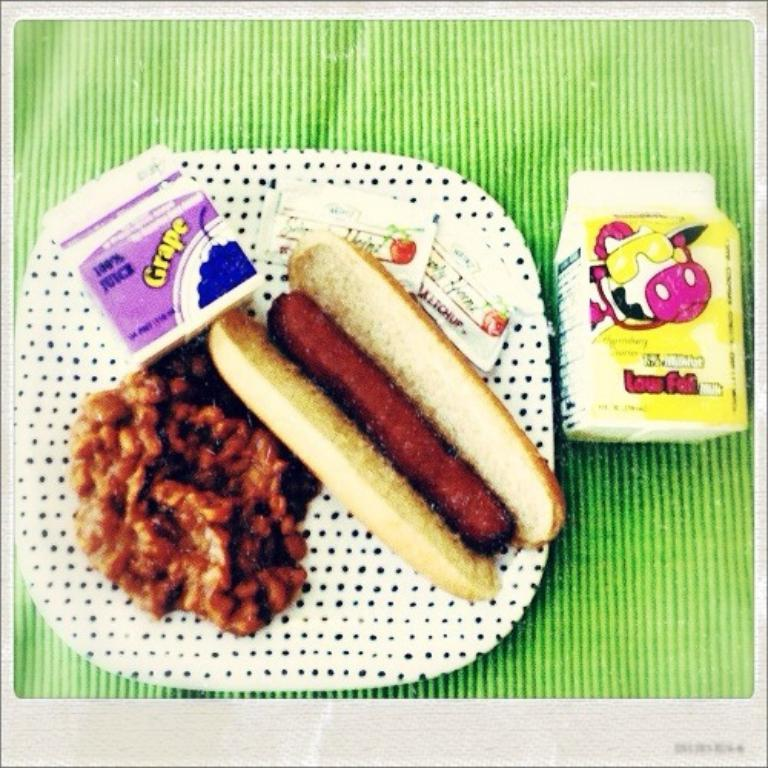hot_dog: (221, 237, 568, 590)
